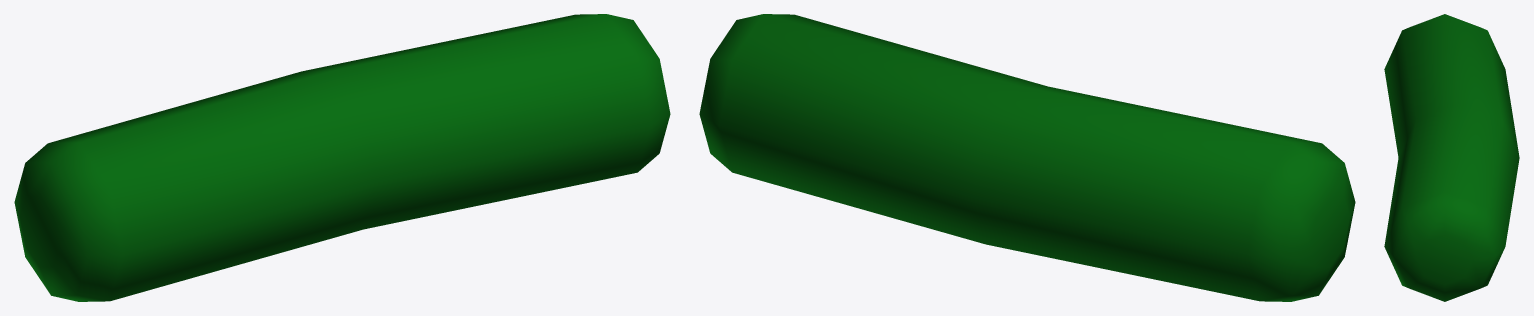
The model's file is Item_Cucumber.glb.
3 renders of one model, left to right at view 1: azimuth 30°, elevation 25°; view 2: azimuth 150°, elevation 25°; view 3: azimuth 270°, elevation 25°, orthographic. The views are drawn at different scales.
Visible parts, largest first — view 1: Item_Cucumber; view 2: Item_Cucumber; view 3: Item_Cucumber.
Part boxes in pixels (x1,y1,x2,y2): Item_Cucumber: (14,14,670,301); Item_Cucumber: (699,14,1355,301); Item_Cucumber: (1384,14,1519,301).
Size of the model in its own units: 0.5288 by 0.133 by 0.1485.
